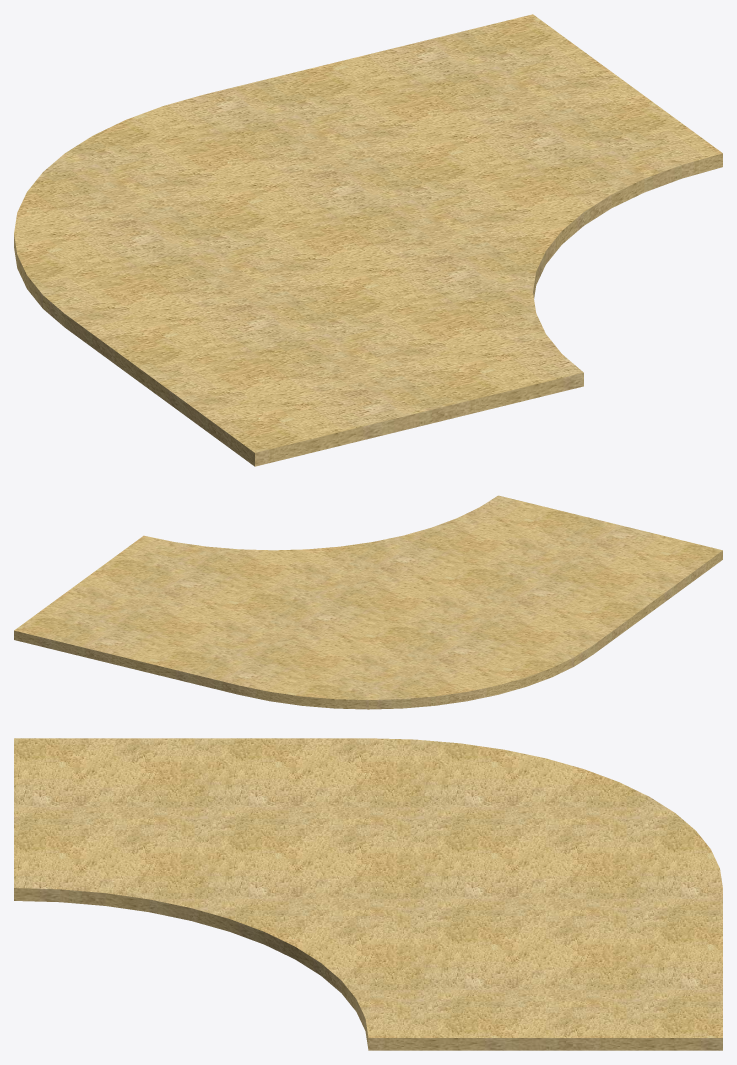
The model's file is turnLeft.fbx.
3 views of the same model, one above another, from view 1: azimuth 30°, elevation 25°; view 2: azimuth 150°, elevation 25°; view 3: azimuth 270°, elevation 25° (orthographic). The views are drawn at different scales.
Parts seen in each view (by area): view 1: Model; view 2: Model; view 3: Model.
Part boxes in pixels (bbox=[...]): Model: bbox=[14, 14, 722, 466]; Model: bbox=[14, 495, 722, 709]; Model: bbox=[14, 738, 722, 1050].
Size of the model in its own units: 2000 by 40 by 2000.
